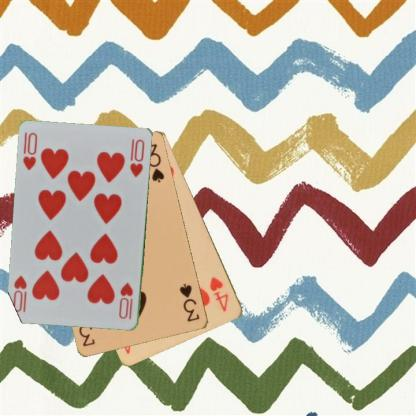10h: (116, 280, 135, 320), (21, 130, 39, 172)
3s: (177, 280, 201, 324)
4h: (207, 274, 230, 313)
